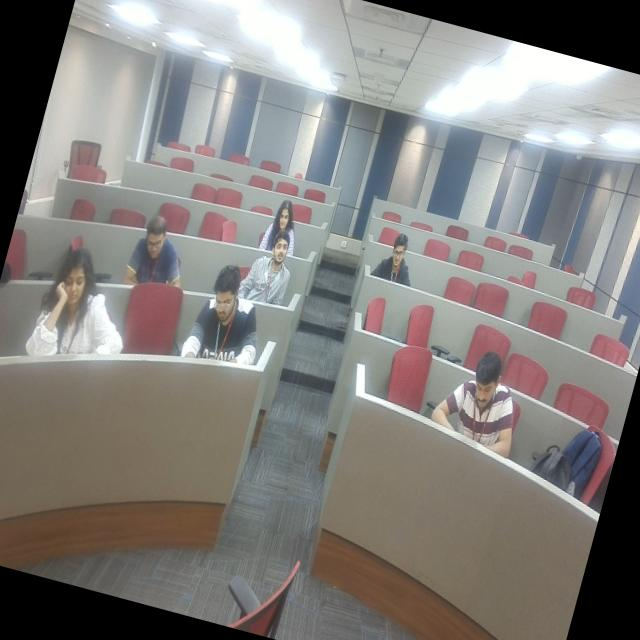non-cheating: (25, 246, 127, 392), (163, 267, 270, 385), (118, 212, 192, 294)
